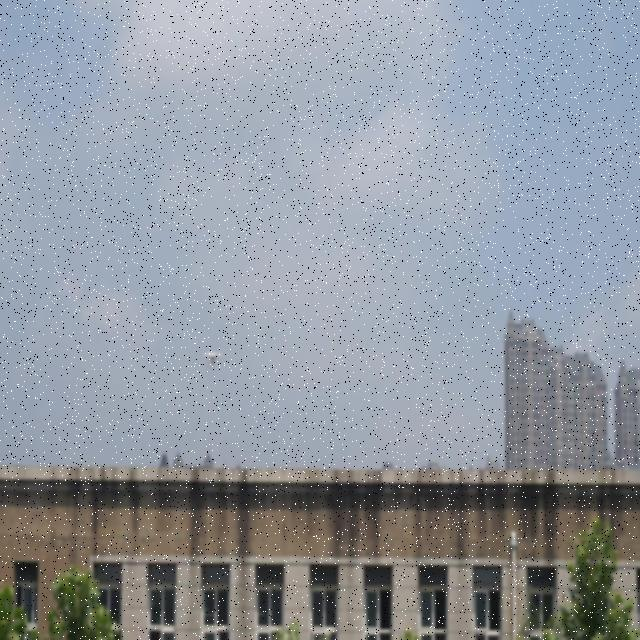UAV: (202, 352, 222, 366)
